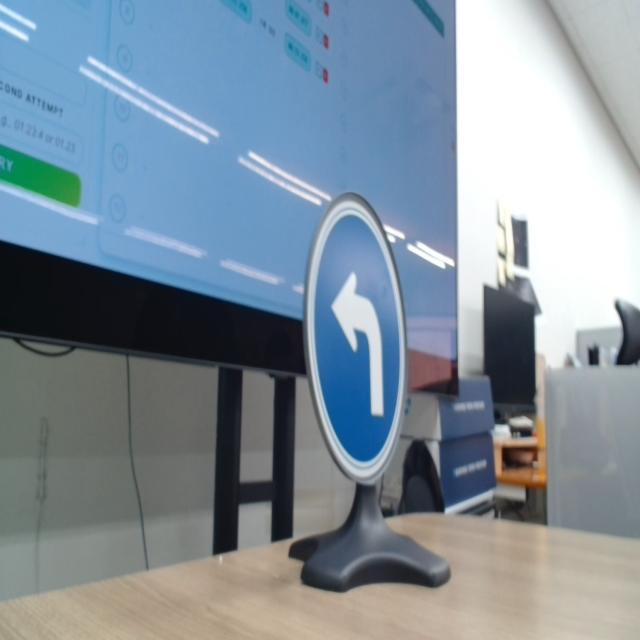left_direction: (295, 190, 422, 490)
